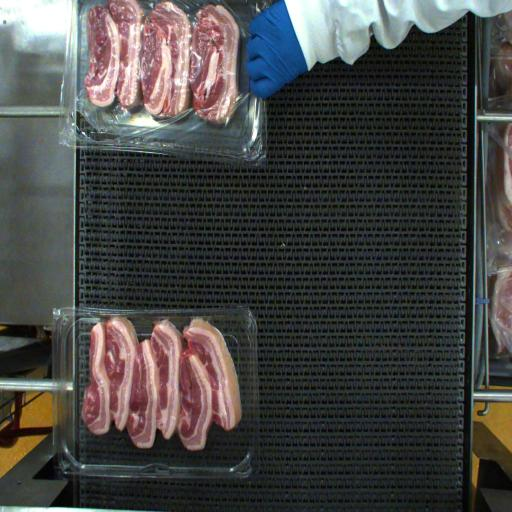packaging-error: (96, 300, 220, 340)
